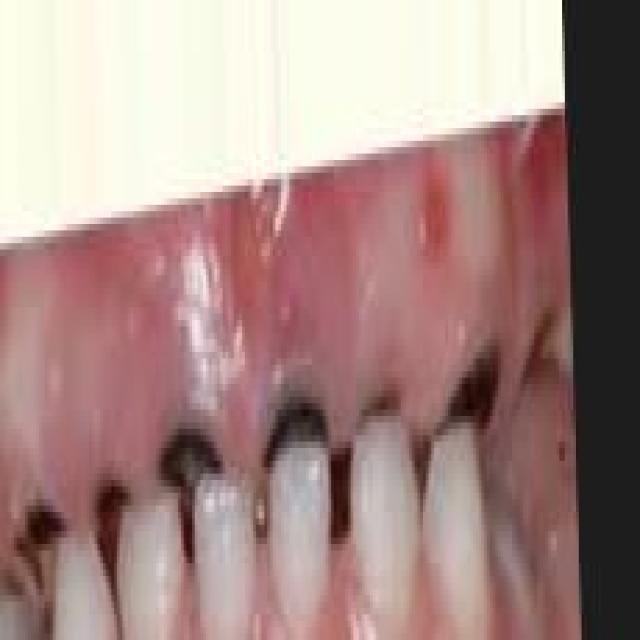caries: (263, 361, 344, 508), (160, 402, 240, 532), (429, 329, 508, 459), (4, 470, 74, 606), (357, 352, 411, 458), (93, 459, 141, 559)
